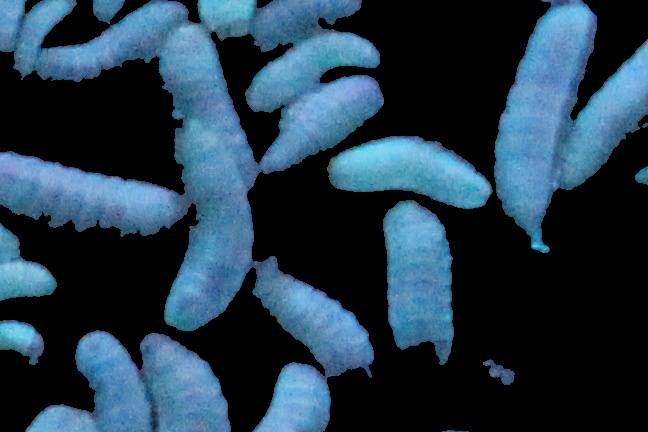larvae: (494, 1, 598, 229), (163, 126, 251, 328), (250, 255, 378, 389), (157, 26, 257, 188), (1, 153, 190, 235), (557, 39, 648, 190), (260, 74, 385, 177), (329, 134, 492, 210), (383, 199, 454, 372), (38, 2, 187, 80), (247, 36, 379, 112), (137, 329, 231, 432), (77, 330, 154, 432), (251, 361, 337, 432), (254, 1, 367, 48), (15, 1, 79, 75), (1, 257, 63, 300), (1, 321, 43, 360), (1, 1, 26, 52)
